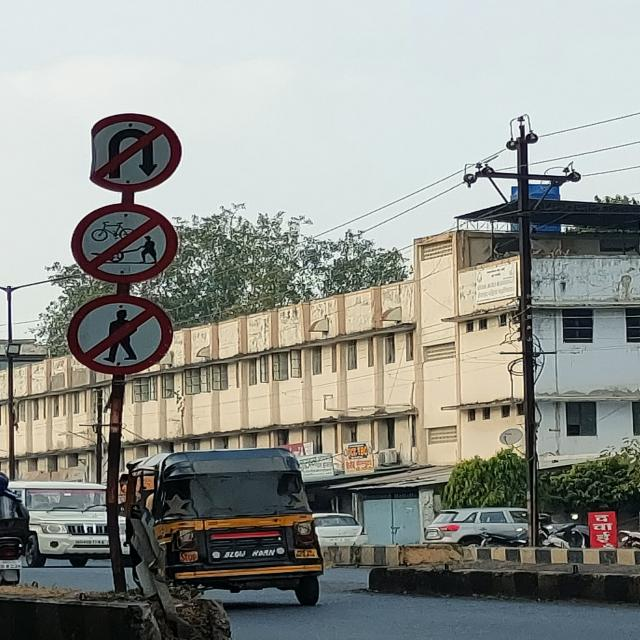CYCLE_PROHIBITED: (71, 203, 186, 284)
